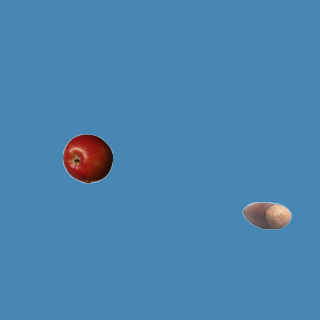Apple Braeburn: (62, 133, 112, 183)
Hazelnut: (241, 190, 291, 240)
